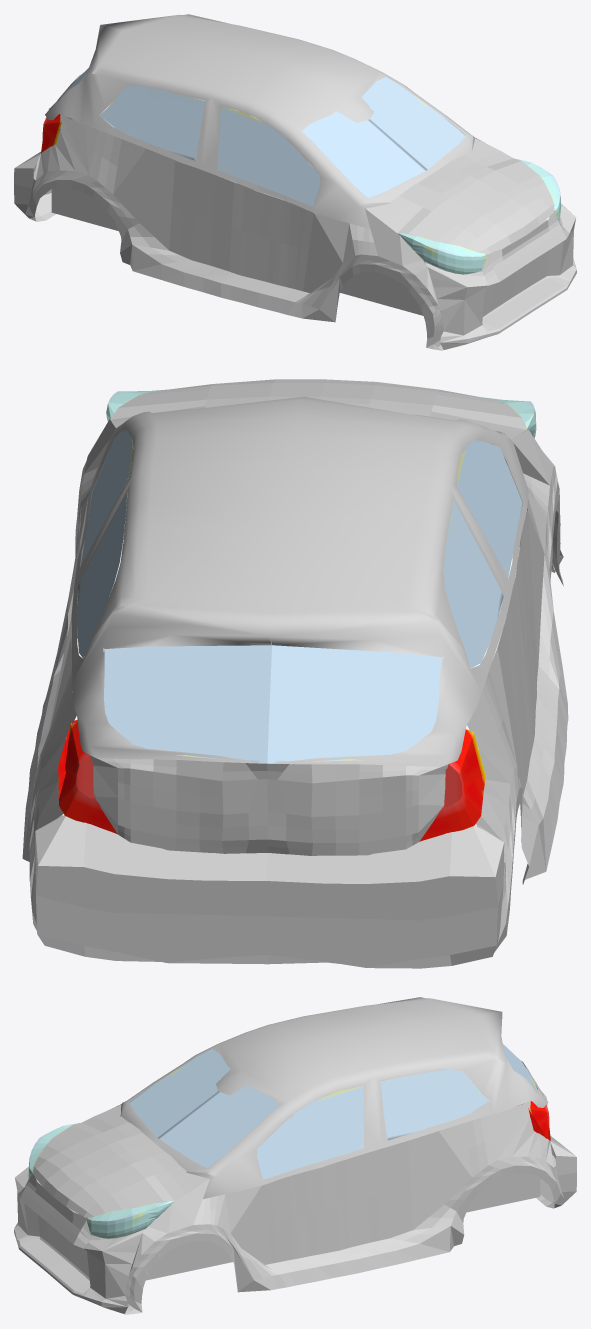
File: Picanto-Car.fbx
The picture shows the model from 3 angles, top to bottom: view 1: azimuth 30°, elevation 25°; view 2: azimuth 150°, elevation 25°; view 3: azimuth 270°, elevation 25°; orthographic projection. The views are drawn at different scales.
Visible parts, largest first — view 1: Cube.006, Cube.001, Cube.007, Cube.009, Cube.005, Cube.010, Cube.012, Cube.008, Cube.004, Cube.002; view 2: Cube.001, Cube.004, Cube.011, Cube.006, Cube.003, Cube.005, Cube.007, Cube.002, Cube.008; view 3: Cube.006, Cube.001, Cube.007, Cube.005, Cube.010, Cube.009, Cube.012, Cube.008, Cube.004, Cube.002, Cube.011.
Boxes of the visible parts, bbox=[...] form: Cube.006: bbox=[25, 114, 554, 350]; Cube.001: bbox=[45, 14, 474, 228]; Cube.007: bbox=[366, 138, 554, 254]; Cube.009: bbox=[425, 203, 576, 349]; Cube.005: bbox=[99, 86, 320, 206]; Cube.010: bbox=[301, 77, 465, 197]; Cube.012: bbox=[51, 98, 546, 315]; Cube.008: bbox=[398, 159, 561, 274]; Cube.004: bbox=[14, 151, 55, 221]; Cube.002: bbox=[41, 114, 70, 152]; Cube.001: bbox=[71, 396, 528, 766]; Cube.004: bbox=[35, 815, 504, 968]; Cube.011: bbox=[103, 645, 443, 763]; Cube.006: bbox=[22, 419, 568, 952]; Cube.003: bbox=[90, 755, 448, 855]; Cube.005: bbox=[77, 431, 522, 668]; Cube.007: bbox=[110, 379, 526, 439]; Cube.002: bbox=[58, 720, 485, 841]; Cube.008: bbox=[106, 389, 536, 437]; Cube.006: bbox=[35, 1101, 565, 1314]; Cube.001: bbox=[120, 997, 548, 1198]; Cube.007: bbox=[32, 1105, 208, 1217]; Cube.005: bbox=[256, 1069, 489, 1179]; Cube.010: bbox=[129, 1049, 279, 1168]; Cube.009: bbox=[14, 1166, 145, 1313]; Cube.012: bbox=[37, 1078, 540, 1280]; Cube.008: bbox=[28, 1123, 174, 1238]; Cube.004: bbox=[536, 1136, 576, 1208]; Cube.002: bbox=[522, 1101, 550, 1140]; Cube.011: bbox=[503, 1044, 537, 1090].
Size of the model in its own units: 1100 by 499 by 1421.
